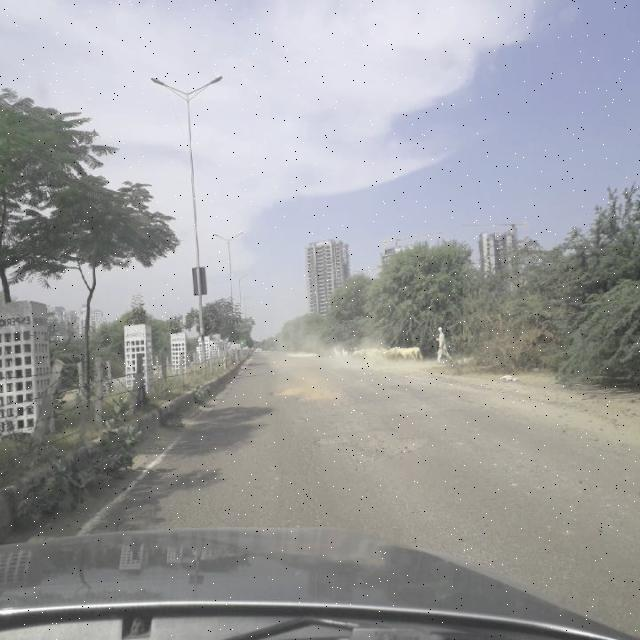D20: (96, 438, 520, 534)
D40: (266, 374, 346, 403), (356, 431, 430, 462), (314, 424, 356, 450)
